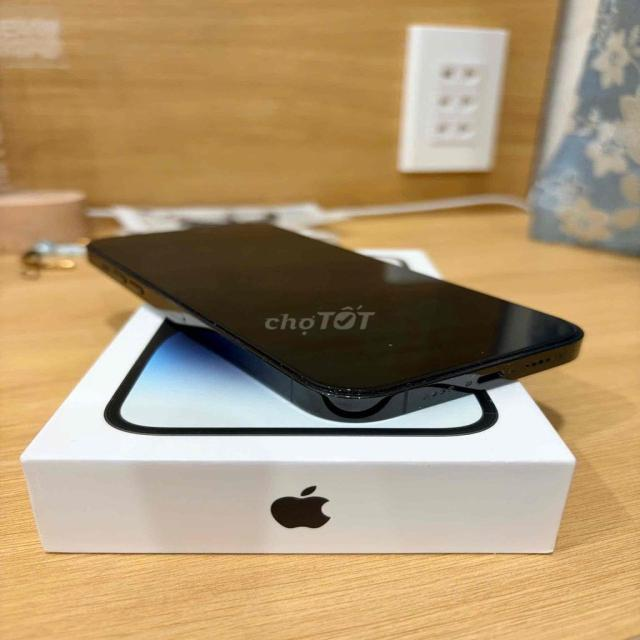gen_14: (88, 202, 606, 432)
